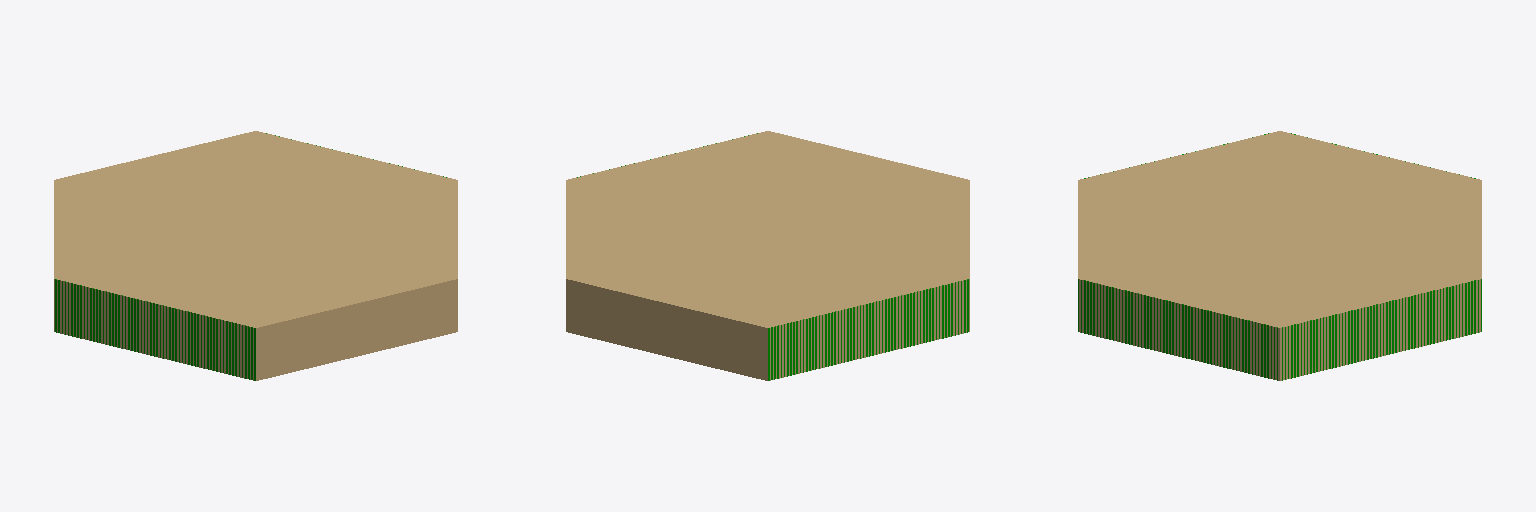
3 renders of one model, left to right at view 1: azimuth 30°, elevation 25°; view 2: azimuth 150°, elevation 25°; view 3: azimuth 270°, elevation 25°, orthographic.
Visible parts, largest first — view 1: pCylinder1; view 2: pCylinder1; view 3: pCylinder1.
Part boxes in pixels (left/top/right/bottom): pCylinder1: left=54, top=131, right=457, bottom=380; pCylinder1: left=566, top=131, right=969, bottom=380; pCylinder1: left=1078, top=131, right=1481, bottom=380.
Size of the model in its own units: 6.92 by 0.8684 by 6.
1 materials, 1 textured.